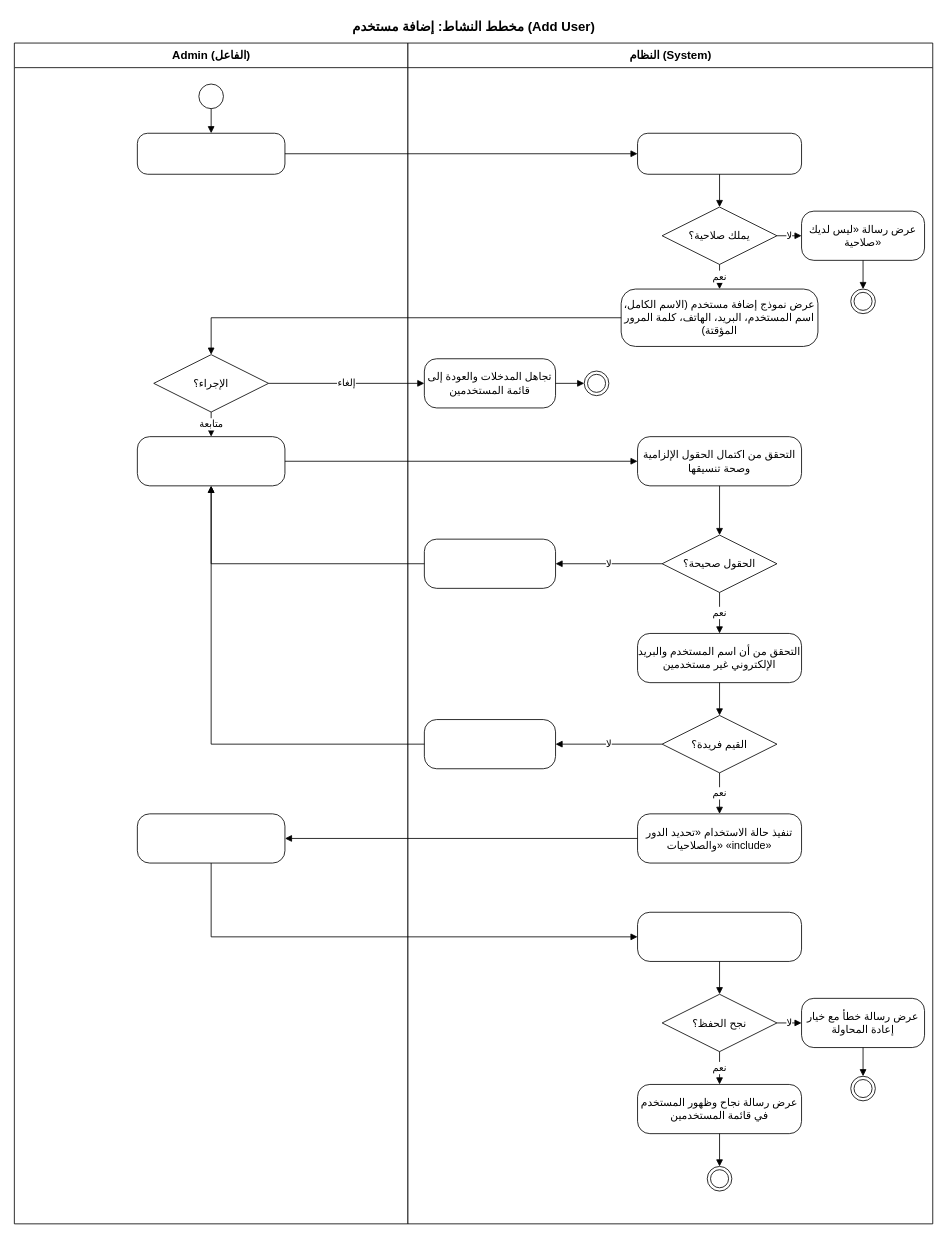
This 947x1238 diagram has some shape labels left out. The box of each missing label's shape, as (x1, y1, x2, y2) in pixels:
إنشاء الحساب بحالة «فعّال» وحفظ الدور والصلاحيات: (637, 911, 802, 961)
التحقق من صلاحية الـ Admin: (637, 132, 802, 174)
تحديد الحقول الخاطئة مع رسالة توضح السبب: (424, 538, 556, 588)
تحديد دور المستخدم وصلاحياته والضغط على «حفظ»: (137, 813, 285, 863)
تعبئة بيانات المستخدم والضغط على «متابعة»: (137, 436, 285, 486)
عرض رسالة أن اسم المستخدم أو البريد مستخدم مسبقًا: (424, 719, 556, 769)
يختار «إضافة مستخدم»: (137, 132, 285, 174)
